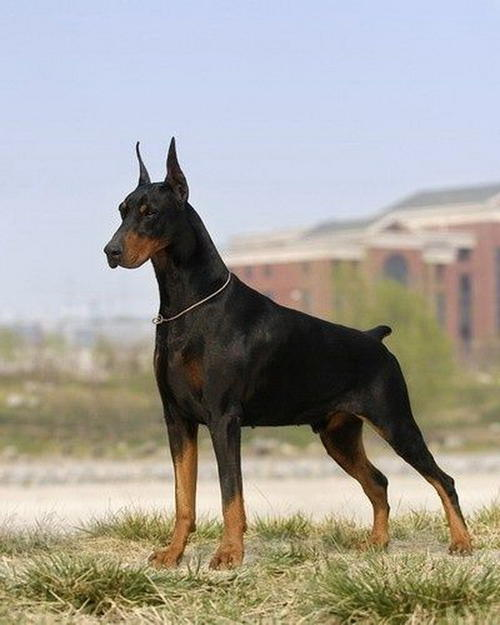dog: (74, 131, 215, 305)
